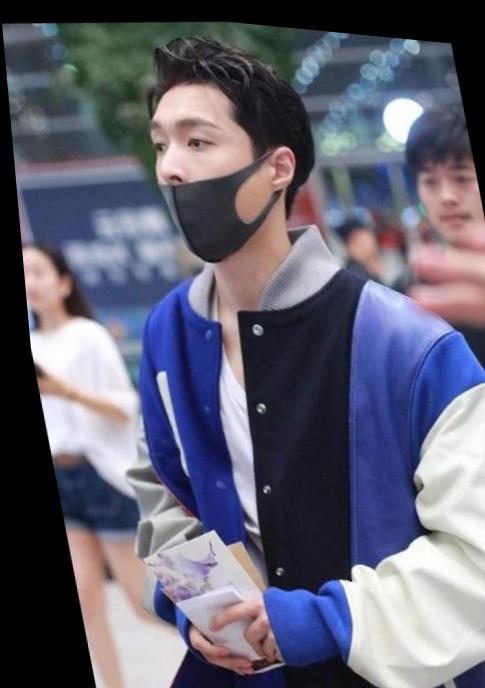NONE: (407, 137, 485, 247), (19, 253, 64, 314)
WRONG: (141, 81, 286, 266)
